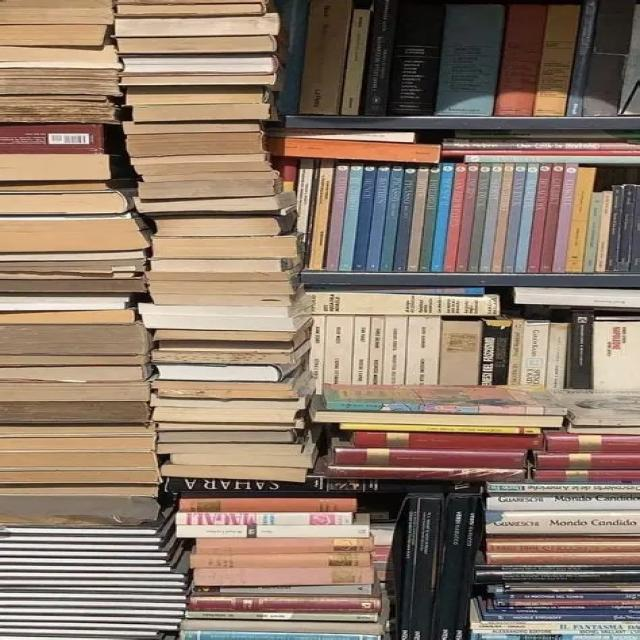book: (436, 5, 498, 114), (302, 290, 500, 316), (332, 447, 535, 470), (187, 594, 384, 615), (190, 566, 375, 588), (352, 431, 544, 451), (414, 498, 440, 639), (190, 536, 371, 555), (481, 514, 639, 535), (324, 465, 531, 481), (472, 602, 637, 621), (180, 524, 370, 540), (478, 492, 638, 511), (178, 496, 356, 513), (185, 618, 386, 633), (481, 551, 638, 567), (457, 165, 480, 272), (480, 589, 637, 603), (537, 432, 637, 453), (531, 452, 640, 471), (569, 310, 595, 389), (176, 513, 352, 524), (482, 482, 640, 494), (526, 470, 636, 483), (464, 155, 638, 163)
